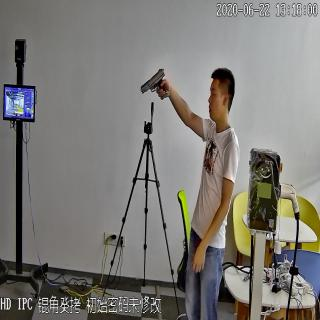gun: (138, 67, 170, 103)
